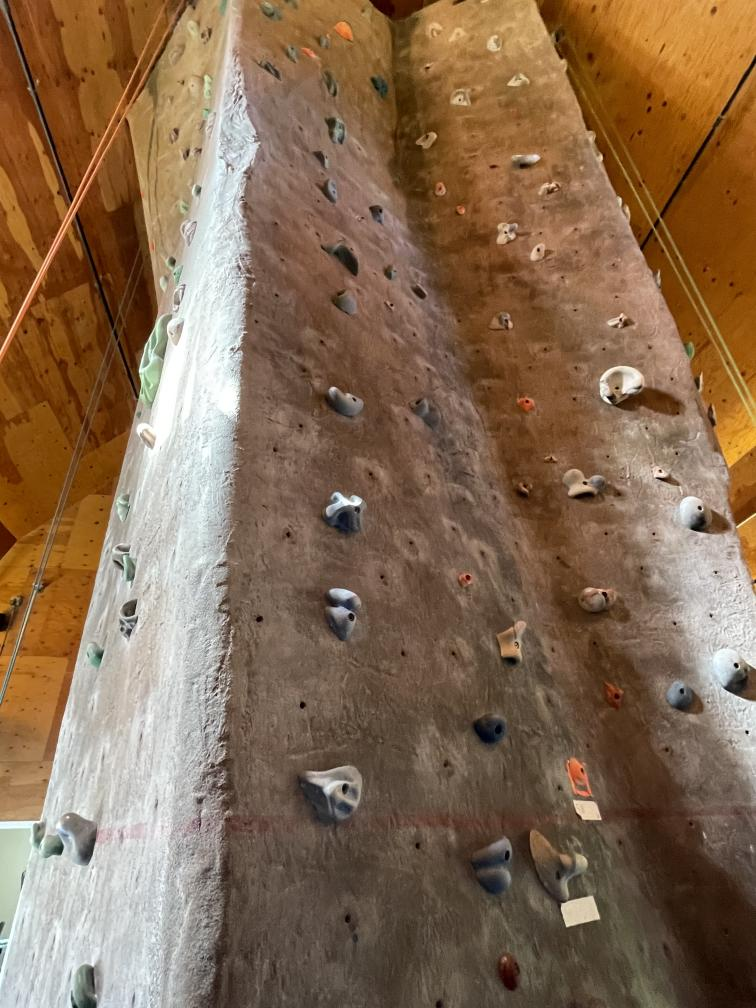Crimp: (525, 825, 591, 903), (407, 390, 446, 432), (564, 750, 594, 794), (602, 306, 634, 330), (515, 394, 539, 420), (365, 200, 387, 227), (179, 219, 199, 247), (505, 71, 533, 90), (454, 569, 477, 591), (410, 278, 431, 302), (383, 262, 402, 286), (447, 26, 471, 45), (204, 111, 219, 140), (300, 44, 319, 60), (171, 265, 184, 285), (151, 239, 157, 257)
Edges: (138, 313, 172, 410), (254, 54, 286, 82)
Foothold: (494, 951, 533, 994), (599, 678, 627, 714), (451, 202, 470, 218), (544, 451, 560, 466)
Jug: (287, 754, 367, 835), (465, 832, 515, 903), (56, 810, 108, 869), (592, 362, 649, 409), (320, 229, 364, 280), (62, 963, 108, 1008), (491, 615, 530, 667), (572, 582, 629, 616), (558, 467, 610, 503), (321, 380, 367, 419), (469, 710, 508, 750), (317, 172, 350, 210), (115, 597, 142, 643), (329, 286, 362, 322), (37, 828, 65, 866), (489, 220, 524, 249), (122, 552, 146, 591), (322, 114, 349, 147), (486, 307, 516, 336), (446, 86, 476, 113), (135, 421, 160, 453), (112, 490, 134, 526), (83, 638, 107, 670), (413, 131, 444, 155), (367, 74, 392, 103), (331, 19, 359, 43), (110, 540, 130, 573), (508, 152, 543, 170), (526, 242, 552, 266), (514, 476, 540, 500), (481, 32, 507, 55), (535, 180, 563, 198), (650, 462, 673, 481), (186, 73, 205, 96), (201, 73, 214, 101), (284, 44, 300, 64), (165, 124, 180, 144), (432, 180, 447, 199), (177, 198, 192, 216), (191, 181, 205, 200), (190, 146, 205, 161), (164, 254, 177, 271), (159, 274, 169, 292)
Pinch: (315, 574, 370, 651), (313, 480, 372, 539), (165, 316, 192, 346), (170, 282, 191, 311), (321, 68, 340, 98), (312, 147, 332, 170), (199, 24, 216, 46)
Sloper: (706, 642, 753, 700), (675, 496, 722, 536), (664, 676, 697, 716), (178, 145, 191, 162)
